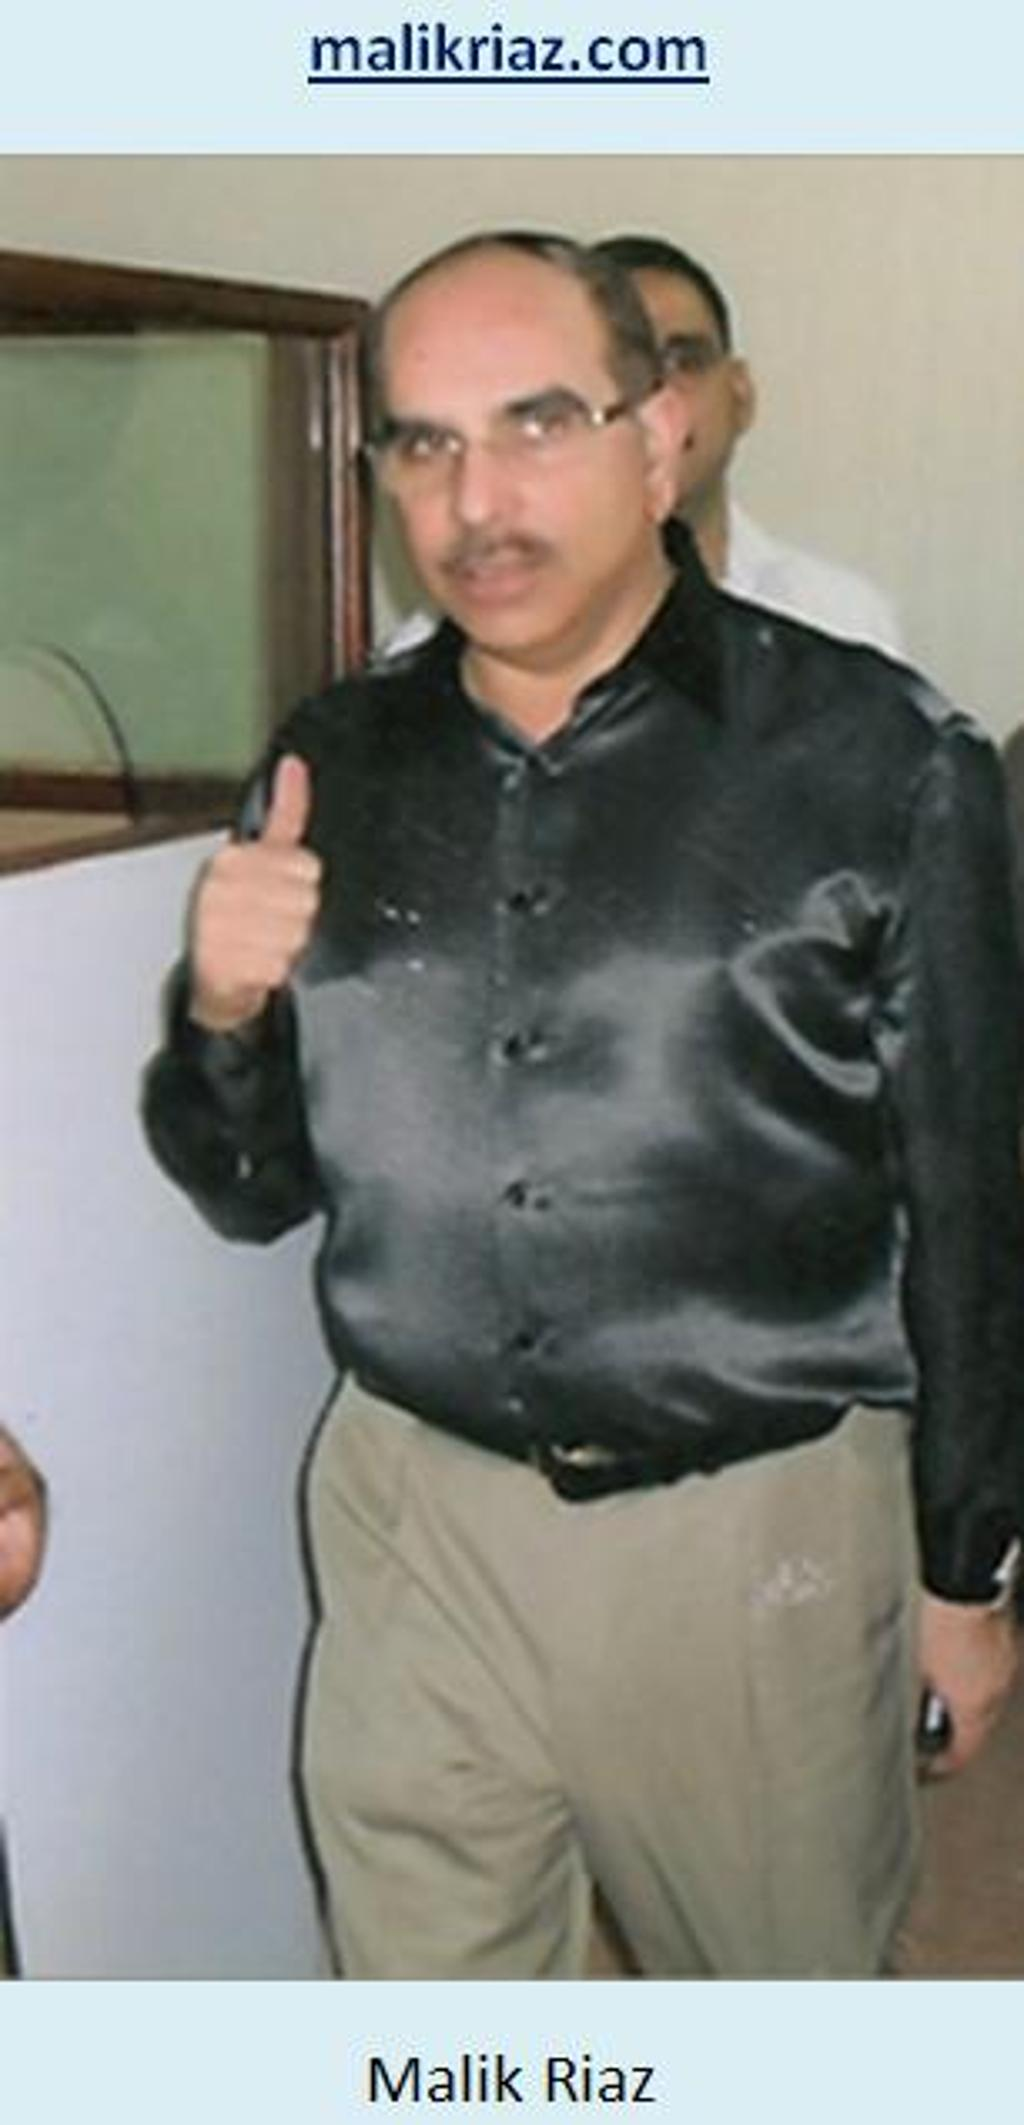face: (394, 298, 605, 642), (576, 274, 729, 490)
